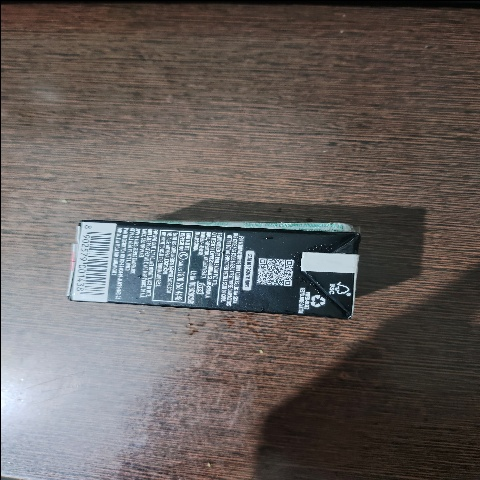appy: (49, 201, 366, 345)
